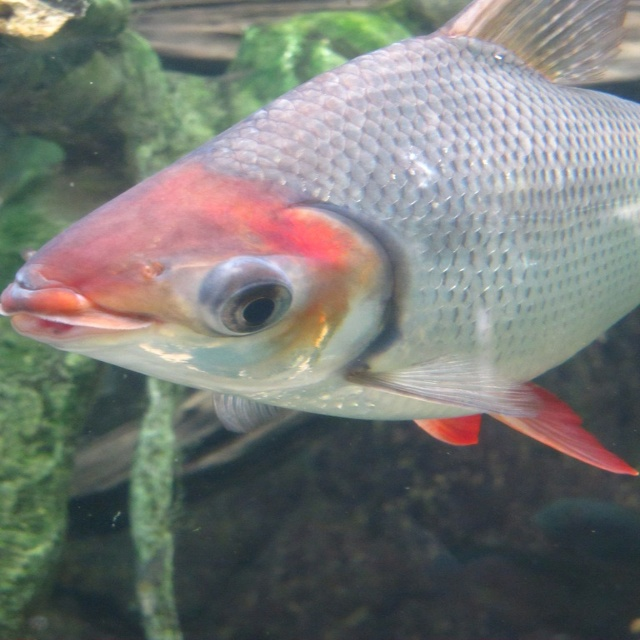Fish: (0, 0, 640, 475)
